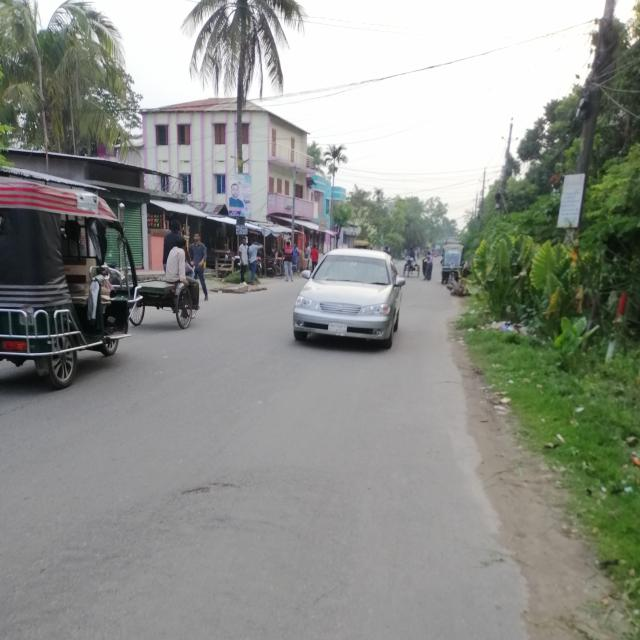Car: (283, 242, 412, 354)
Easybike: (1, 171, 147, 382)
